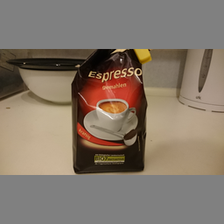coffee: (71, 49, 153, 174)
